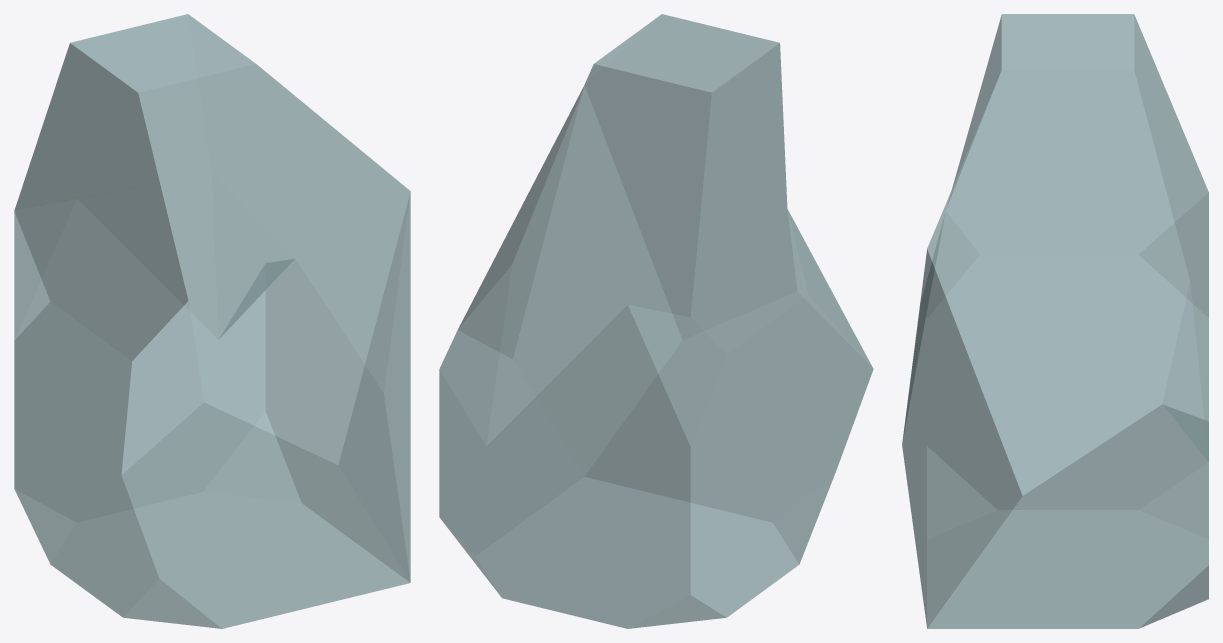
The model's file is Frostbite.fbx.
3 views of the same model, side by side, from view 1: azimuth 30°, elevation 25°; view 2: azimuth 150°, elevation 25°; view 3: azimuth 270°, elevation 25° (orthographic). The views are drawn at different scales.
Parts seen in each view (by area): view 1: pCube1; view 2: pCube1; view 3: pCube1.
Boxes of the visible parts, left/top/right/bottom form: pCube1: left=14, top=14, right=410, bottom=628; pCube1: left=439, top=14, right=873, bottom=628; pCube1: left=902, top=14, right=1208, bottom=628.
Bounding box in the file's own units: 4.45 × 7.09 × 3.91.
